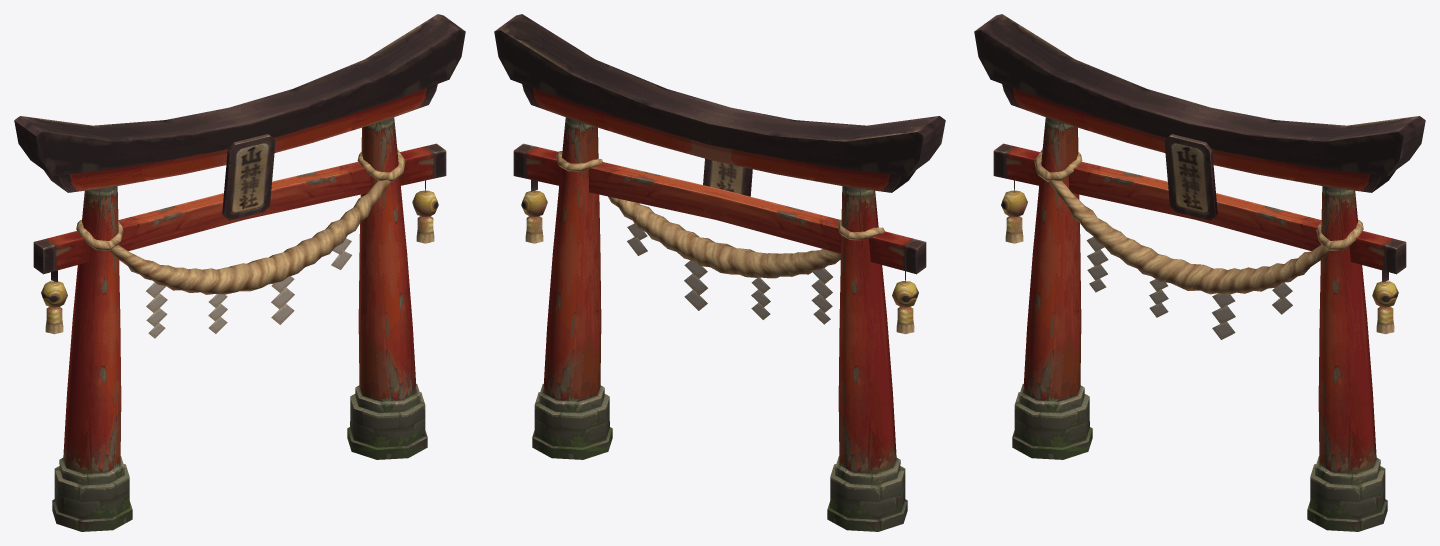
Rendered from shrine_jz003_01.FBX.
3 views of the same model, side by side, from view 1: azimuth 30°, elevation 25°; view 2: azimuth 150°, elevation 25°; view 3: azimuth 330°, elevation 25° (orthographic).
Visible parts, largest first — view 1: shrine_jz003_01; view 2: shrine_jz003_01; view 3: shrine_jz003_01.
Part boxes in pixels (x1,y1,x2,y2): shrine_jz003_01: [14, 14, 465, 531]; shrine_jz003_01: [494, 14, 945, 531]; shrine_jz003_01: [974, 14, 1425, 531].
Size of the model in its own units: 673 by 608 by 113.
Materials: 1 (1 with a texture image).
